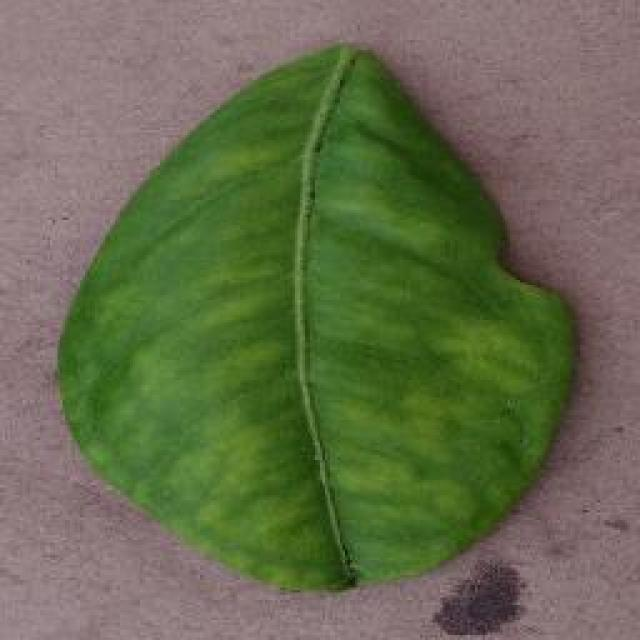Orange_Haunglongbing_Citrus_greening: (90, 133, 510, 538)
